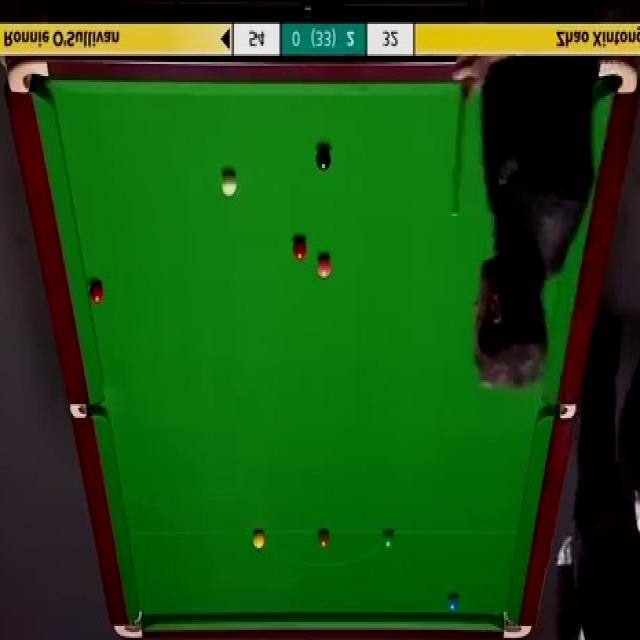black-ball: (315, 148, 332, 170)
blue-ball: (446, 594, 460, 613)
brown-ball: (317, 531, 330, 548)
green-ball: (382, 528, 396, 552)
pink-ball: (316, 256, 332, 280)
red-ball: (89, 282, 105, 305), (292, 239, 307, 262)
white-ball: (220, 170, 239, 198)
yellow-ball: (252, 530, 266, 551)
